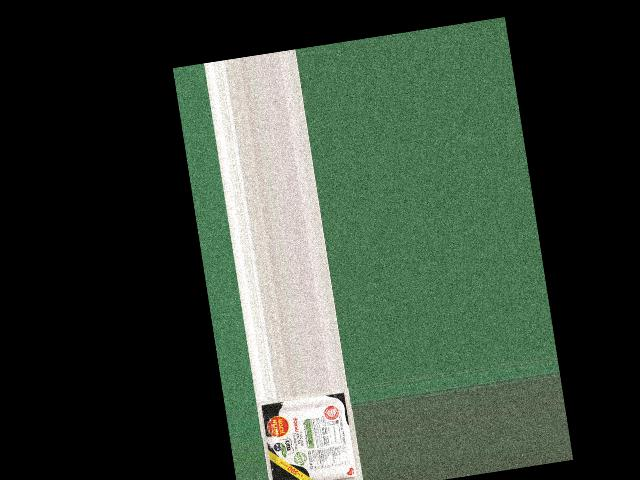cheese: (263, 391, 355, 480)
